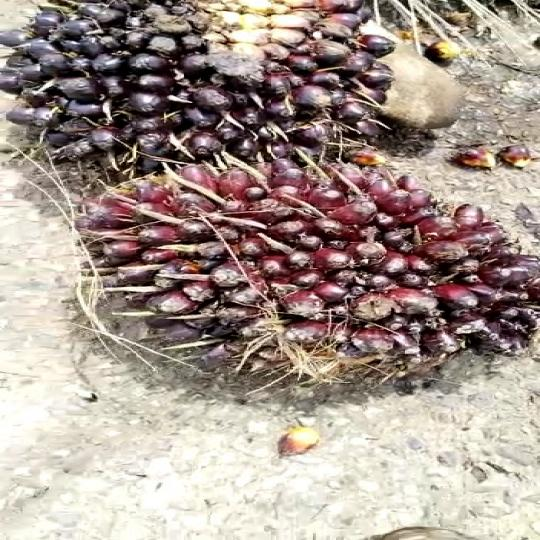mentah: (66, 152, 535, 402), (0, 0, 433, 166)
